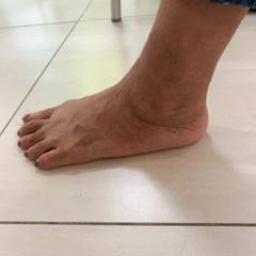Lateral View -Left Foot-: (3, 59, 235, 180)
